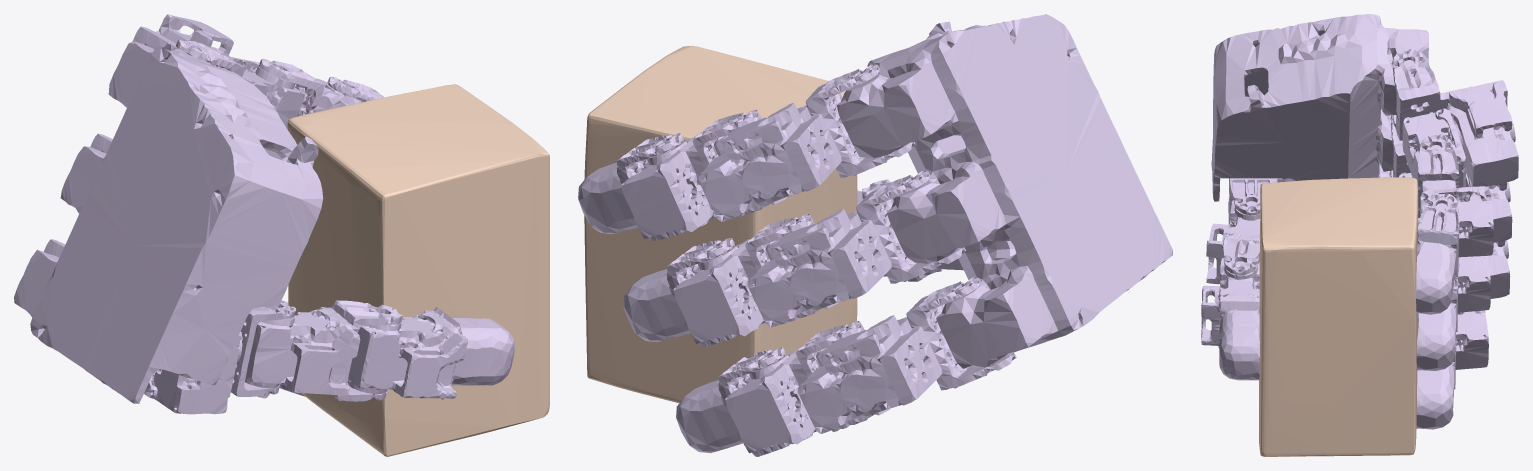
Rendered from 1c71106ad54091-closed.glb.
3 renders of one model, left to right at view 1: azimuth 30°, elevation 25°; view 2: azimuth 150°, elevation 25°; view 3: azimuth 270°, elevation 25°, orthographic. The views are drawn at different scales.
Visible parts, largest first — view 1: LEAP_hand, world; view 2: LEAP_hand, world; view 3: LEAP_hand, world.
Boxes of the visible parts, x1=… form: LEAP_hand: x1=14, y1=14, x2=514, y2=414; world: x1=287, y1=84, x2=549, y2=456; LEAP_hand: x1=578, y1=14, x2=1172, y2=456; world: x1=584, y1=45, x2=857, y2=403; LEAP_hand: x1=1201, y1=14, x2=1518, y2=429; world: x1=1259, y1=177, x2=1418, y2=456.
Size of the model in its own units: 0.2042 by 0.1803 by 0.1532.
